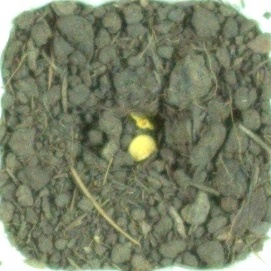chilli seed: (127, 132, 158, 162), (127, 106, 160, 134)
